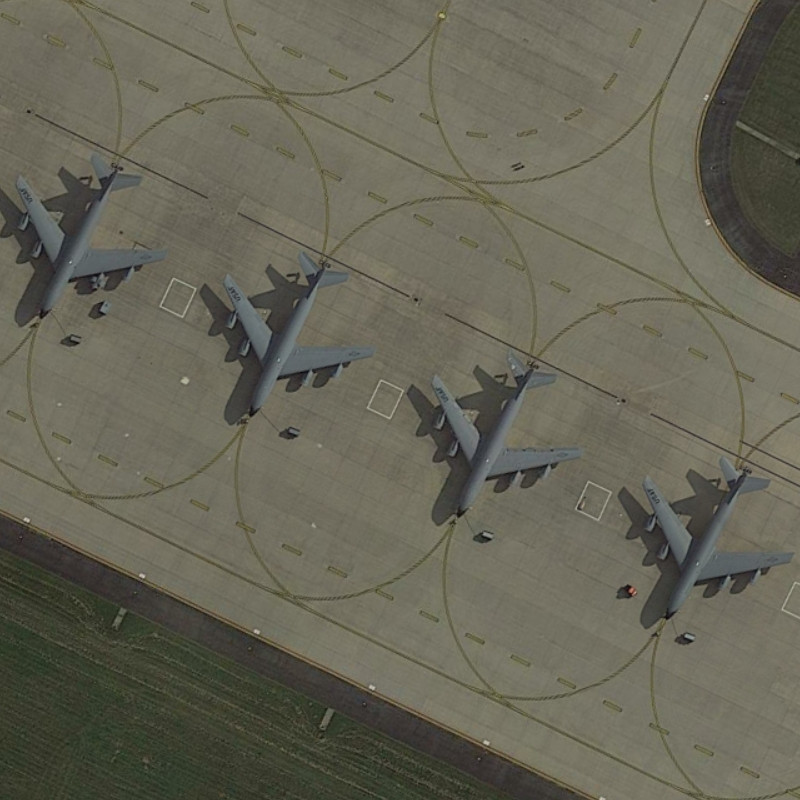A14: (10, 144, 174, 329), (215, 244, 382, 425), (630, 445, 796, 625), (419, 344, 586, 522)
